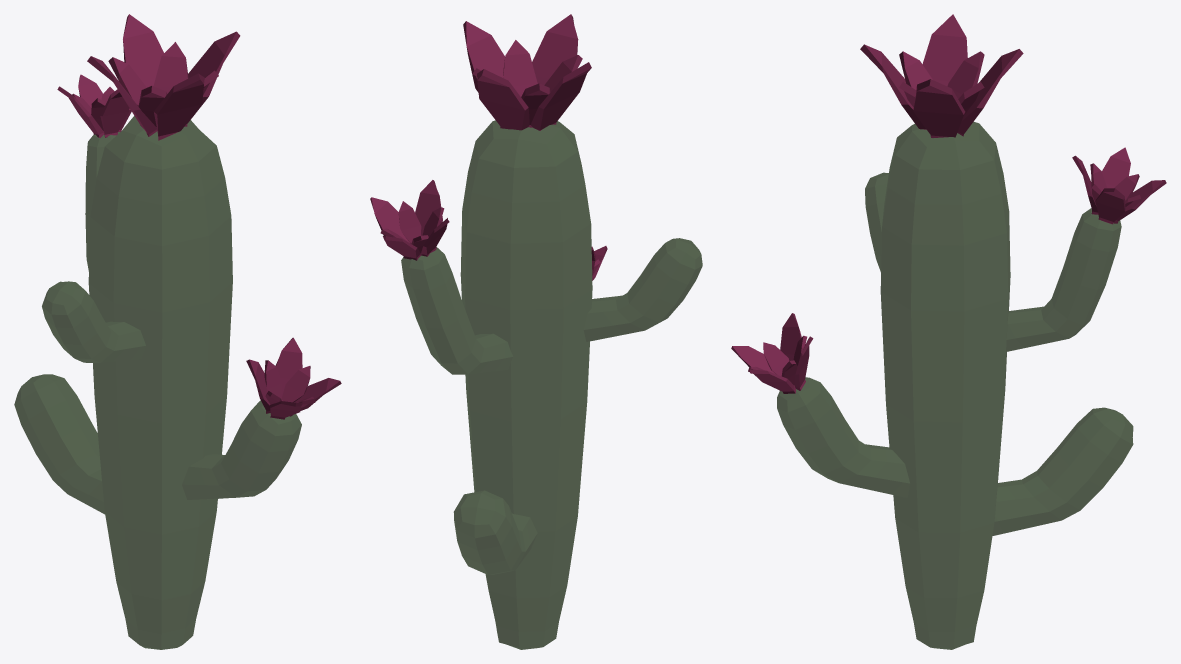
Rendered from cactusFleur1.glb.
The picture shows the model from 3 angles, left to right: view 1: azimuth 30°, elevation 25°; view 2: azimuth 150°, elevation 25°; view 3: azimuth 270°, elevation 25°; orthographic projection.
Visible parts, largest first — view 1: CactusFlowers_2_Cube.015, mesh_mm1; view 2: CactusFlowers_2_Cube.015, mesh_mm1; view 3: CactusFlowers_2_Cube.015, mesh_mm1.
Boxes of the visible parts, x1,y1,x2,y2 form: CactusFlowers_2_Cube.015: (14, 115, 301, 649); mesh_mm1: (57, 14, 341, 419); CactusFlowers_2_Cube.015: (401, 120, 702, 649); mesh_mm1: (370, 14, 607, 280); CactusFlowers_2_Cube.015: (777, 121, 1133, 649); mesh_mm1: (731, 14, 1166, 393).
Size of the model in its own units: 0.7654 by 1.94 by 1.28.
